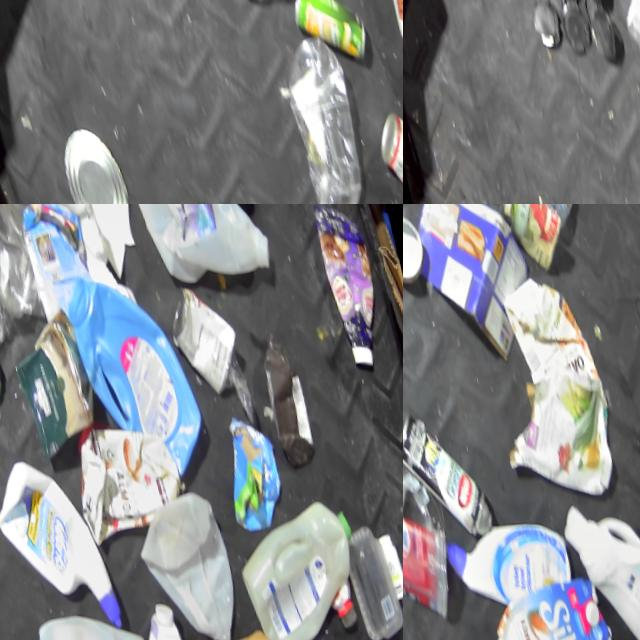can: (283, 0, 369, 64), (369, 103, 403, 199)
milk_jug: (223, 476, 376, 640), (123, 478, 244, 640), (548, 478, 640, 640), (123, 204, 279, 298), (16, 590, 161, 640)
non_white_jug: (57, 247, 209, 479), (403, 204, 545, 360), (469, 558, 614, 640)
plastic_bottle: (269, 27, 370, 204), (0, 204, 45, 325)
